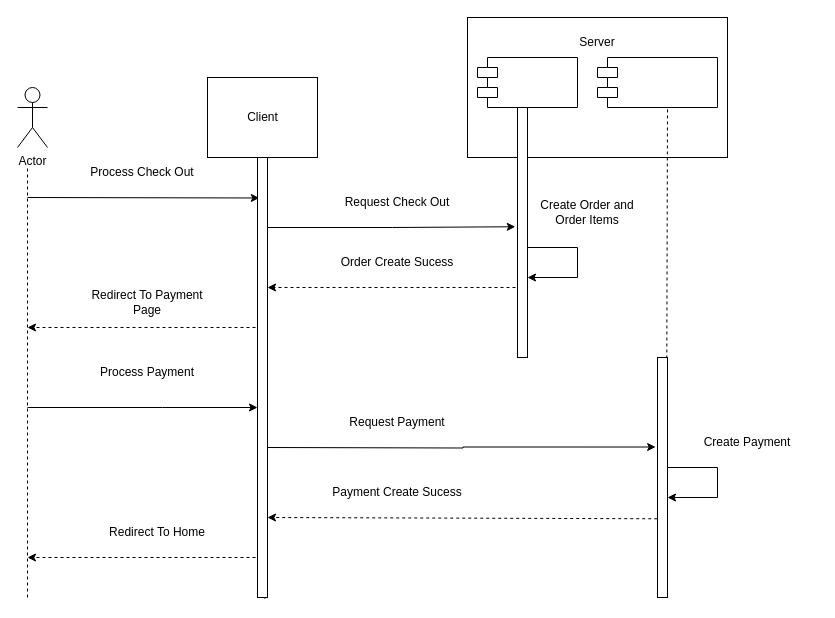
This 835x618 diagram has some shape labels left out. Here are the shapes that lost their labels. From the top down, the box of each, then its label:
(476, 56, 578, 108): Order Service
(596, 56, 718, 108): Payment Service
